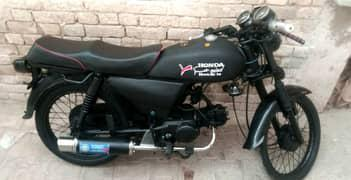motorcycle: (6, 9, 326, 177)
